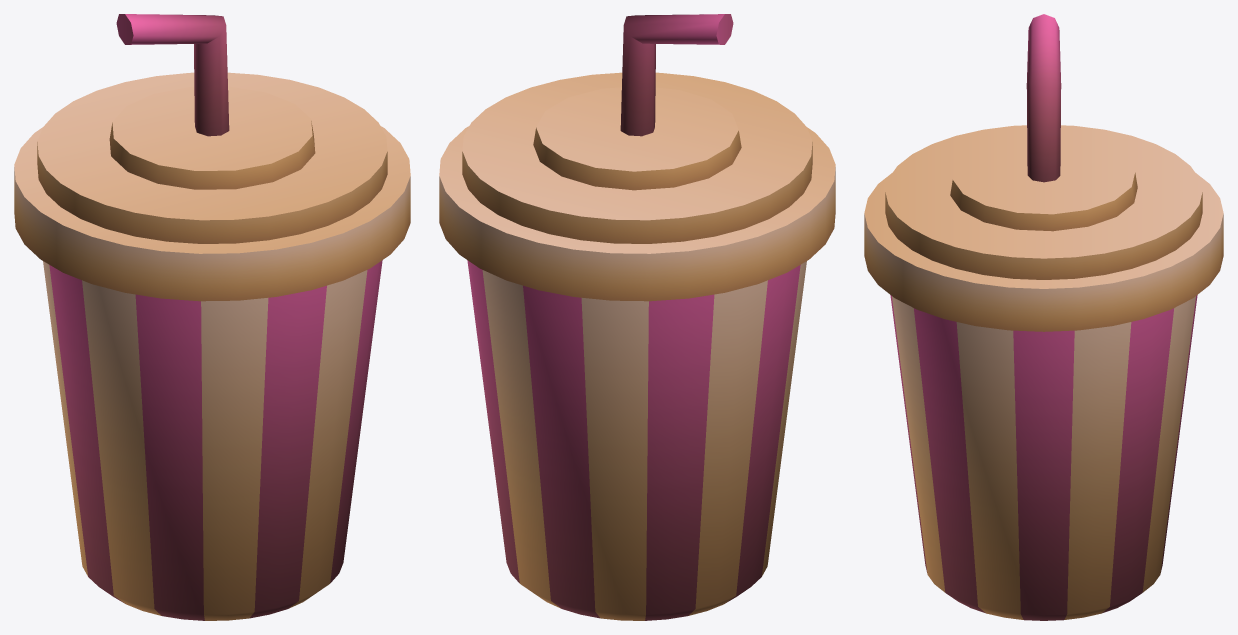
The model's file is SM_Soda.fbx.
3 views of the same model, side by side, from view 1: azimuth 30°, elevation 25°; view 2: azimuth 150°, elevation 25°; view 3: azimuth 270°, elevation 25° (orthographic). The views are drawn at different scales.
Parts seen in each view (by area): view 1: SM_Soda; view 2: SM_Soda; view 3: SM_Soda.
Boxes of the visible parts, <box> form: SM_Soda: <box>14,14,410,620</box>; SM_Soda: <box>439,14,835,620</box>; SM_Soda: <box>864,14,1223,620</box>.
Size of the model in its own units: 28.71 by 46.25 by 28.71.
